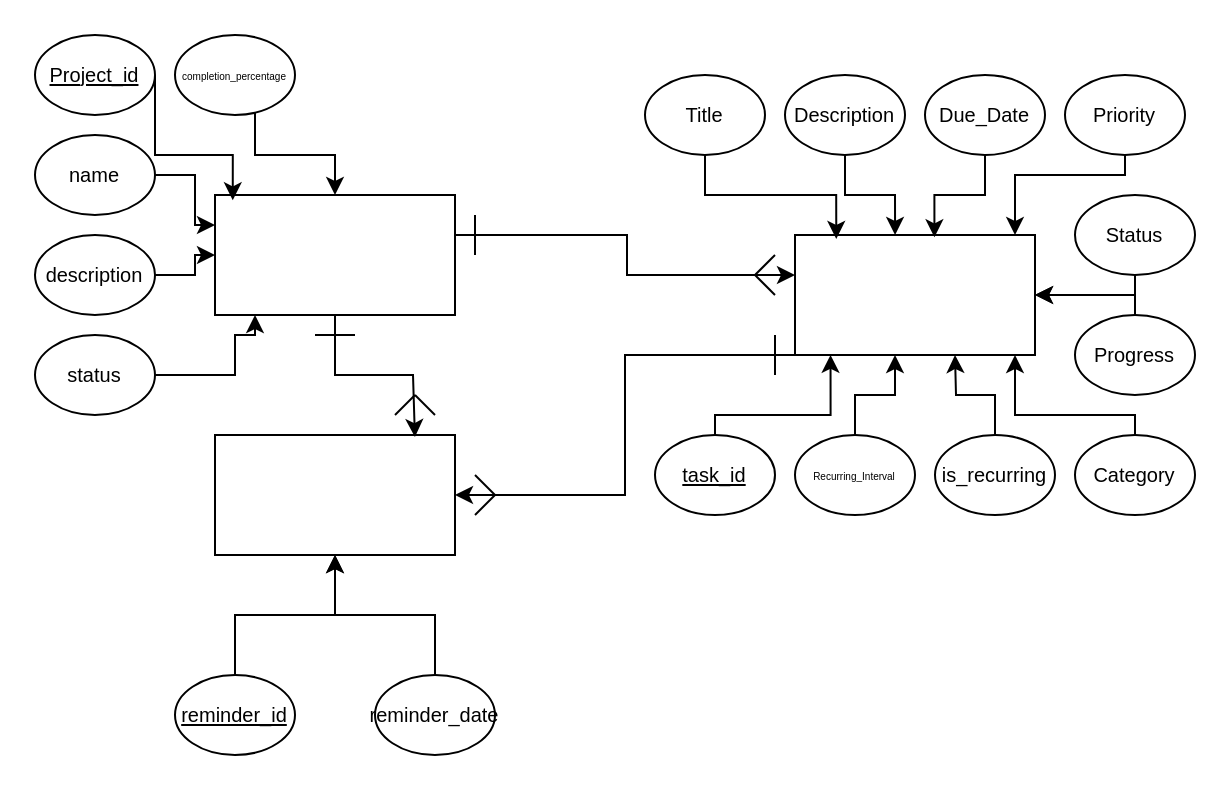
Some shapes in this 1230 by 790 pixel diagram are drawn without their labels. Each missing label, with the centre of its shape:
"Project" belongs at point (334, 254).
"Reminder" belongs at point (334, 494).
"Task" belongs at point (914, 294).
